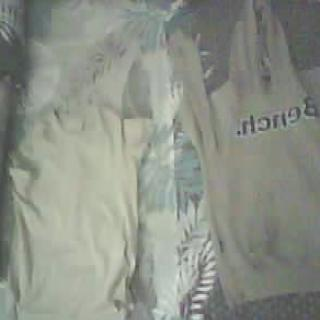Yellow Hoodie: (168, 0, 320, 309)
Yellow T-Shirt: (2, 97, 157, 320)
